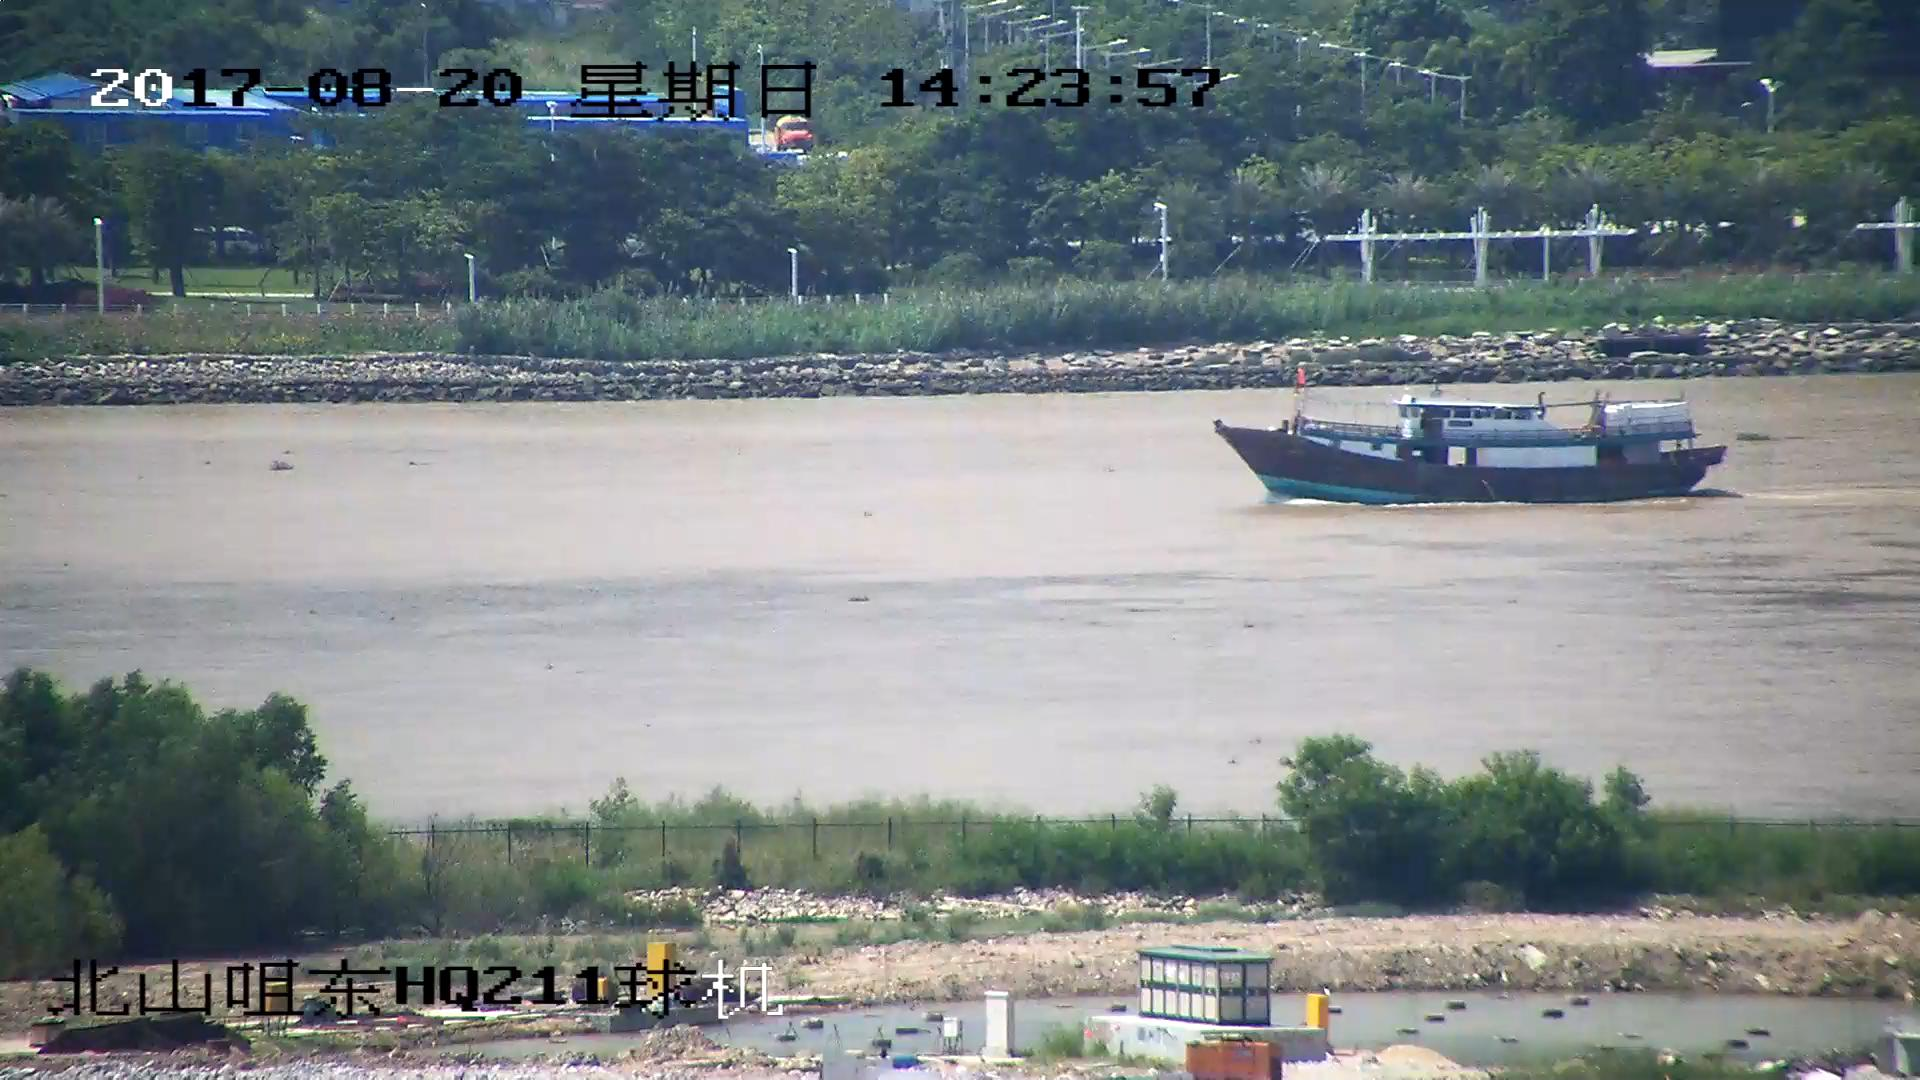fishing boat: (1210, 388, 1725, 508)
